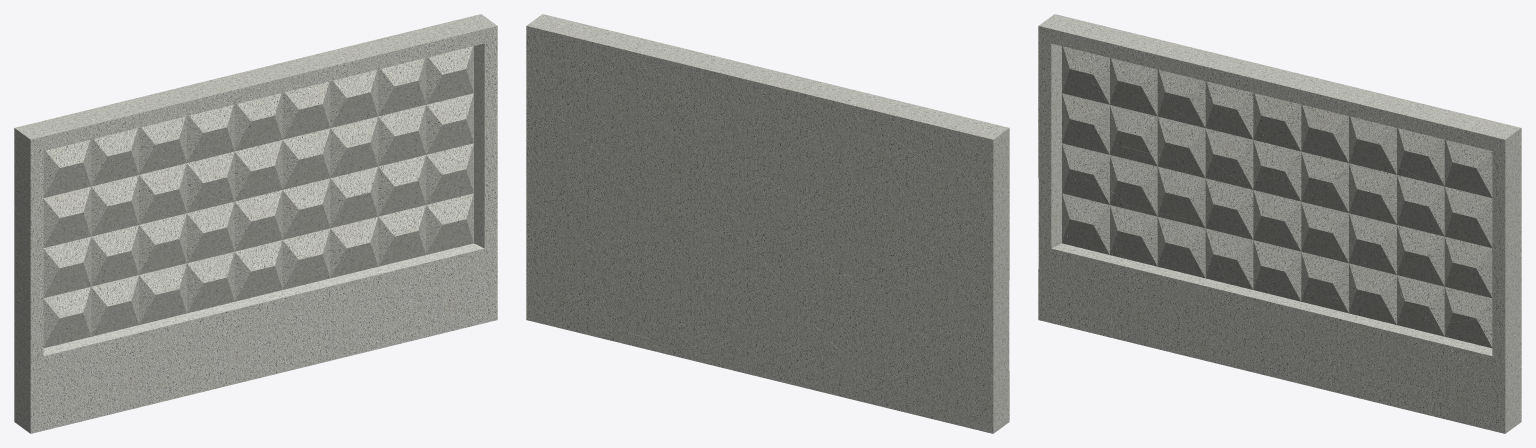
The model's file is WallUSSRDestroy.fbx.
3 renders of one model, left to right at view 1: azimuth 30°, elevation 25°; view 2: azimuth 150°, elevation 25°; view 3: azimuth 330°, elevation 25°, orthographic.
Parts seen in each view (by area): view 1: Куб_cell.045, Куб_cell.027, Куб_cell.059, Куб_cell.038, Куб_cell.003, Куб_cell.005, Куб_cell.034, Куб_cell.062, Куб_cell.065, Куб_cell.066, Куб_cell.030, Куб_cell.063 (+40 smaller); view 2: Куб_cell.045, Куб_cell.038, Куб_cell.034, Куб_cell.062, Куб_cell.050, Куб_cell.027, Куб_cell.002, Куб_cell.064, Куб_cell.059, Куб_cell.065, Куб_cell.030, Куб_cell.021 (+37 smaller); view 3: Куб_cell.045, Куб_cell.027, Куб_cell.059, Куб_cell.038, Куб_cell.003, Куб_cell.005, Куб_cell.062, Куб_cell.034, Куб_cell.065, Куб_cell.066, Куб_cell.036, Куб_cell.030 (+39 smaller).
Part boxes in pixels (box(x1,y1,x2,y2)): Куб_cell.045: box(300, 106, 422, 227); Куб_cell.027: box(242, 57, 316, 178); Куб_cell.059: box(227, 176, 344, 294); Куб_cell.038: box(338, 225, 420, 333); Куб_cell.003: box(44, 331, 149, 420); Куб_cell.005: box(153, 128, 263, 199); Куб_cell.034: box(186, 175, 291, 271); Куб_cell.062: box(371, 159, 465, 247); Куб_cell.065: box(103, 208, 190, 277); Куб_cell.066: box(146, 82, 251, 133); Куб_cell.030: box(413, 248, 480, 337); Куб_cell.063: box(17, 263, 62, 382); Куб_cell.045: box(606, 106, 710, 228); Куб_cell.038: box(595, 228, 681, 341); Куб_cell.034: box(711, 178, 835, 293); Куб_cell.062: box(526, 158, 622, 249); Куб_cell.050: box(781, 128, 869, 228); Куб_cell.027: box(688, 58, 788, 145); Куб_cell.002: box(670, 240, 782, 349); Куб_cell.064: box(904, 356, 1009, 433); Куб_cell.059: box(665, 186, 785, 292); Куб_cell.065: box(842, 209, 910, 290); Куб_cell.030: box(535, 250, 606, 337); Куб_cell.021: box(950, 263, 1001, 372); Куб_cell.045: box(1316, 167, 1436, 279); Куб_cell.027: box(1257, 70, 1344, 196); Куб_cell.059: box(1240, 193, 1360, 293); Куб_cell.038: box(1351, 276, 1436, 387); Куб_cell.003: box(1051, 253, 1157, 348); Куб_cell.005: box(1167, 81, 1275, 183); Куб_cell.062: box(1388, 235, 1521, 325); Куб_cell.034: box(1204, 177, 1306, 251); Куб_cell.065: box(1116, 146, 1207, 222); Куб_cell.066: box(1154, 49, 1263, 120); Куб_cell.036: box(1436, 301, 1521, 376); Куб_cell.030: box(1421, 326, 1487, 429).
Bounding box in the file's own units: 1906 × 1148 × 115.
